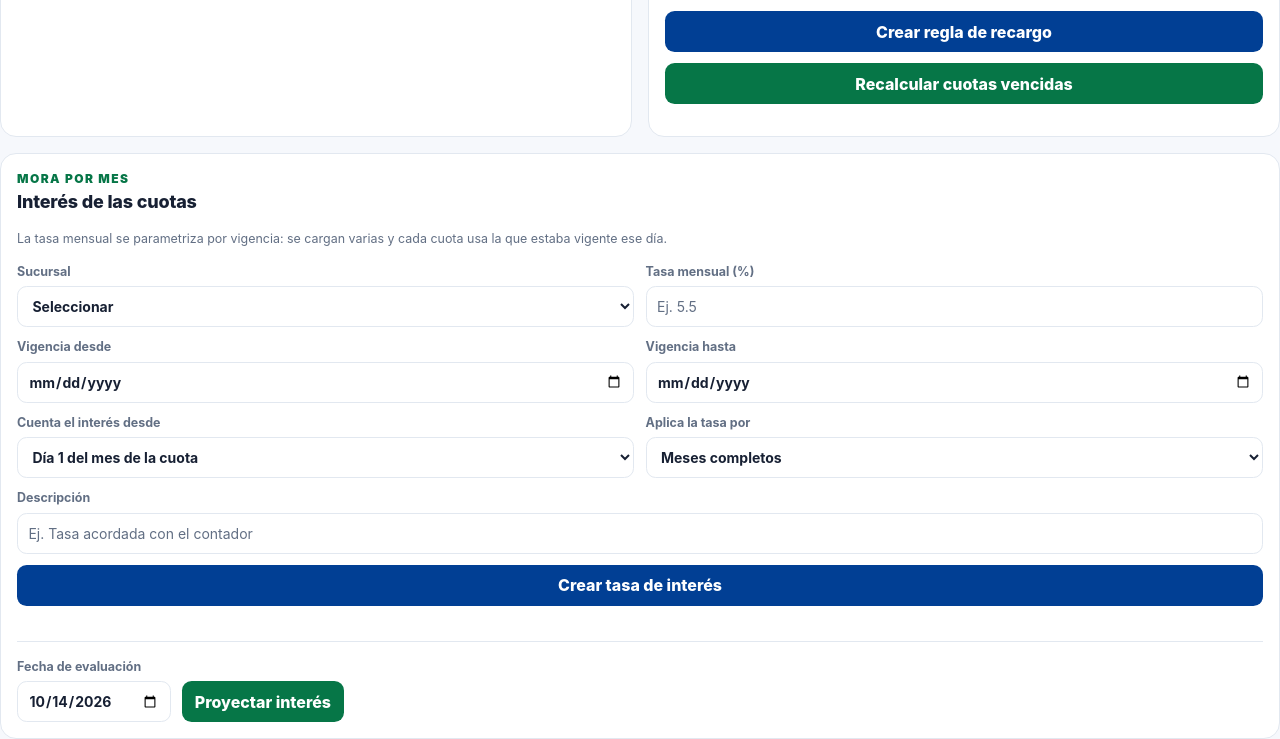
Test: ajustes de cuotas: interés de mora › muestra en línea el motivo cuando no hay ninguna tasa cargada
(page scrolled)
Step 1. Click the button "Proyectar interés" → x=263, y=702, box [182,681,344,722]
(page scrolled)
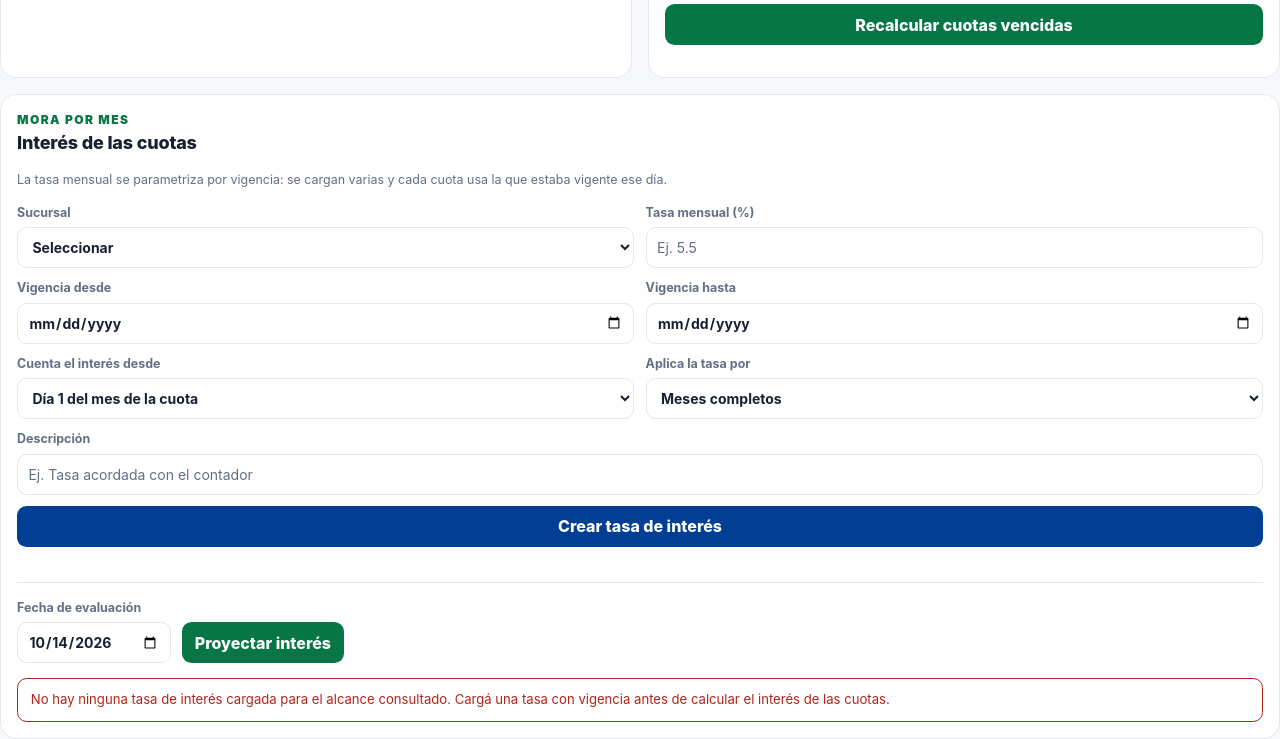
Expected: the message with class "is-error" is shown, [17,678,1263,722]
Expected: the message with class "is-error" shows "No hay ninguna tasa de interés cargada", [31,691,890,707]
